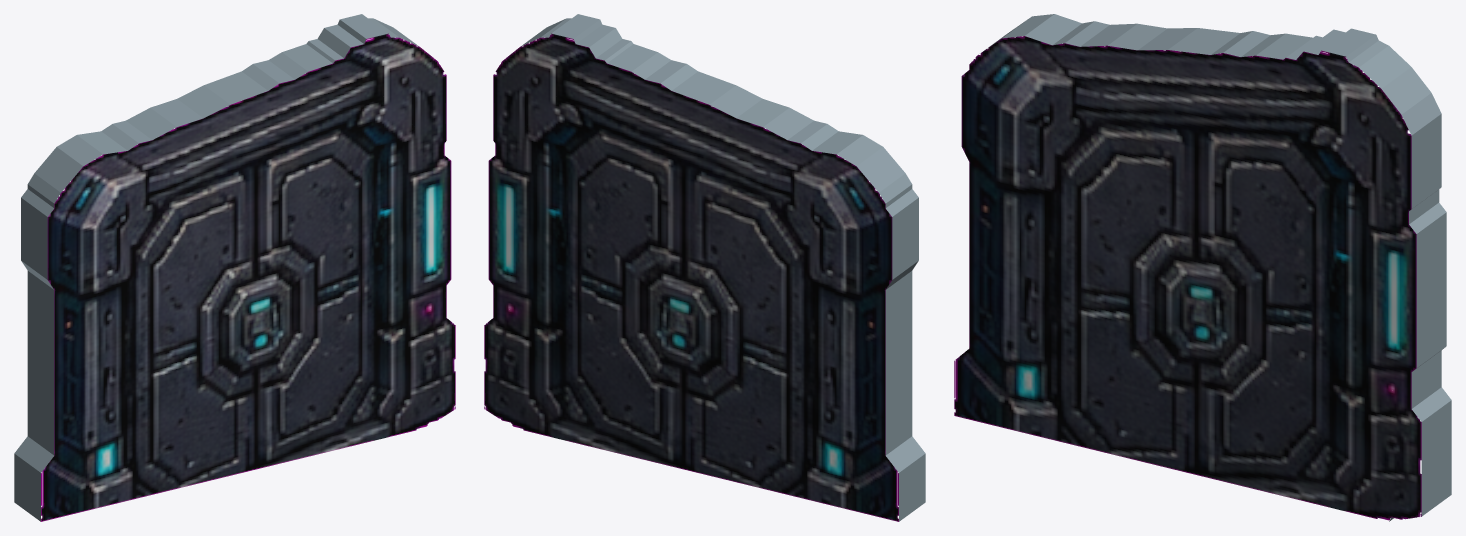
The model's file is chrome-obj-door-shut.glb.
3 views of the same model, side by side, from view 1: azimuth 30°, elevation 25°; view 2: azimuth 150°, elevation 25°; view 3: azimuth 330°, elevation 25° (orthographic). The views are drawn at different scales.
Parts seen in each view (by area): view 1: painted-faces, side-shell; view 2: painted-faces, side-shell; view 3: painted-faces, side-shell.
Boxes of the visible parts, x1,y1,x2,y2 form: painted-faces: (41, 33, 455, 521); side-shell: (14, 14, 419, 521); painted-faces: (484, 33, 898, 521); side-shell: (520, 14, 925, 521); painted-faces: (954, 36, 1421, 520); side-shell: (983, 14, 1451, 521).
Bounding box in the file's own units: 1.08 × 1 × 0.12.
2 materials, 1 textured.
